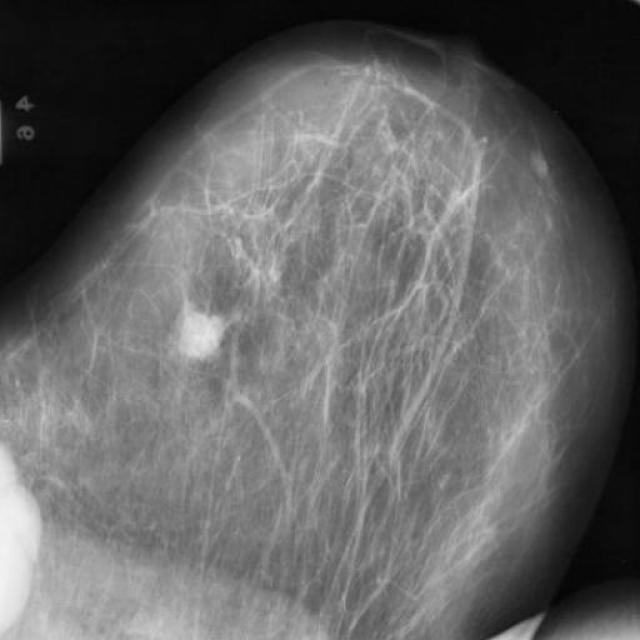cancer: (167, 298, 239, 363)
